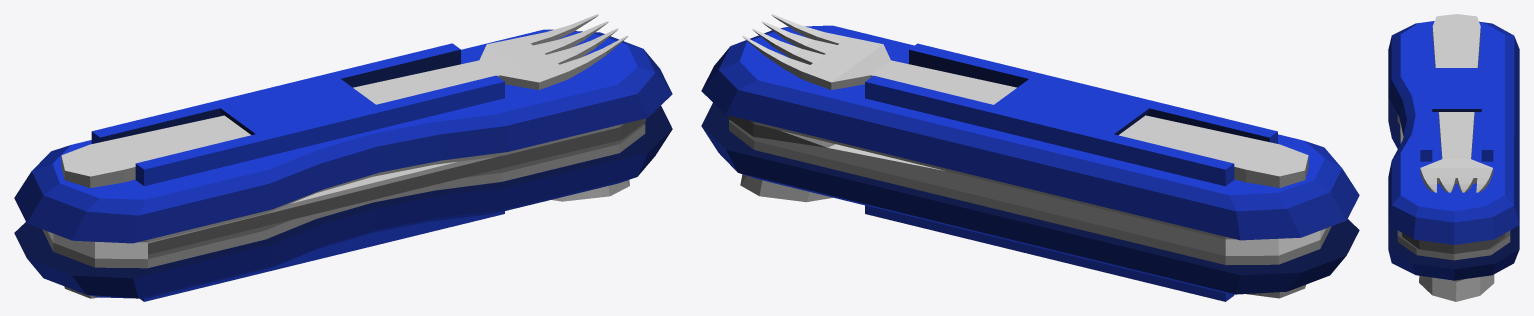
Rendered from WorldItem_UtensilTool.fbx.
3 views of the same model, side by side, from view 1: azimuth 30°, elevation 25°; view 2: azimuth 150°, elevation 25°; view 3: azimuth 270°, elevation 25° (orthographic). The views are drawn at different scales.
Parts seen in each view (by area): view 1: ZomboidUtensilTool; view 2: ZomboidUtensilTool; view 3: ZomboidUtensilTool.
Boxes of the visible parts, bbox=[...] form: ZomboidUtensilTool: bbox=[14, 14, 672, 301]; ZomboidUtensilTool: bbox=[701, 14, 1359, 301]; ZomboidUtensilTool: bbox=[1388, 14, 1519, 301].
Bounding box in the file's own units: 0.1544 × 0.0349 × 0.0398.
